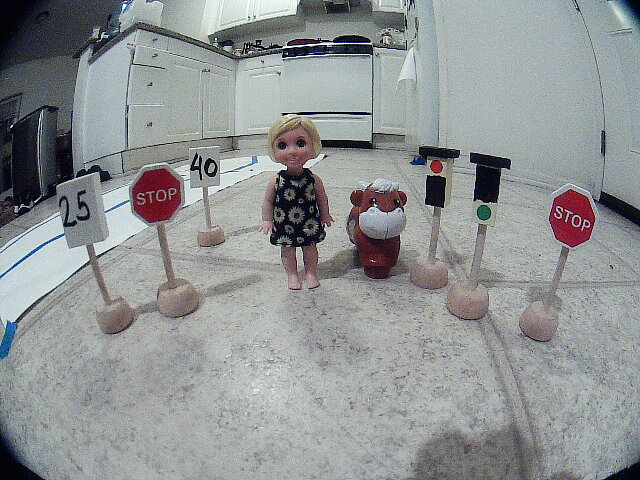Cow: (339, 176, 412, 293)
Green Traffic Light: (462, 152, 531, 242)
Person: (238, 110, 350, 298)
Red Traffic Light: (408, 136, 470, 229)
Speed Limit 25: (48, 173, 121, 257)
Speed Limit 40: (177, 143, 238, 199)
Stop Sign: (538, 171, 611, 269), (115, 164, 186, 233)
